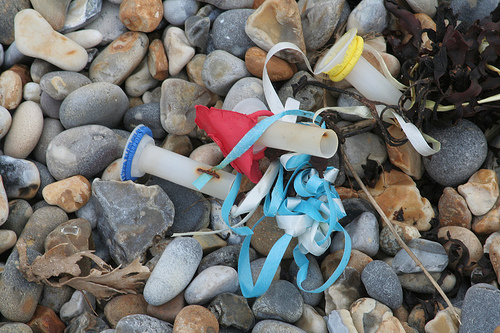litter: (187, 42, 352, 303), (118, 124, 240, 203), (307, 30, 412, 113)
